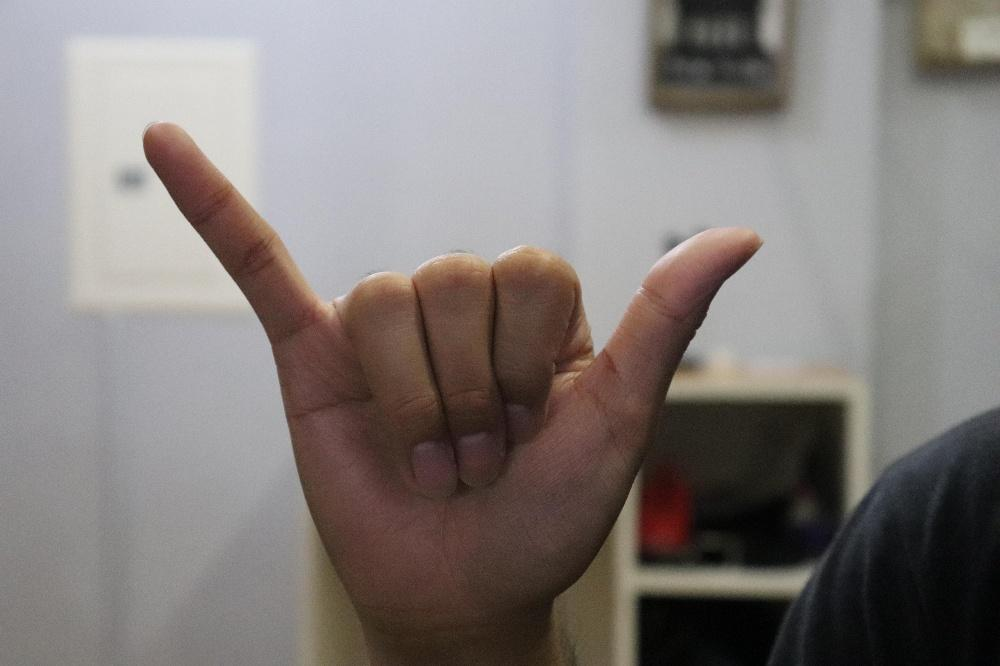y: (141, 120, 762, 628)
